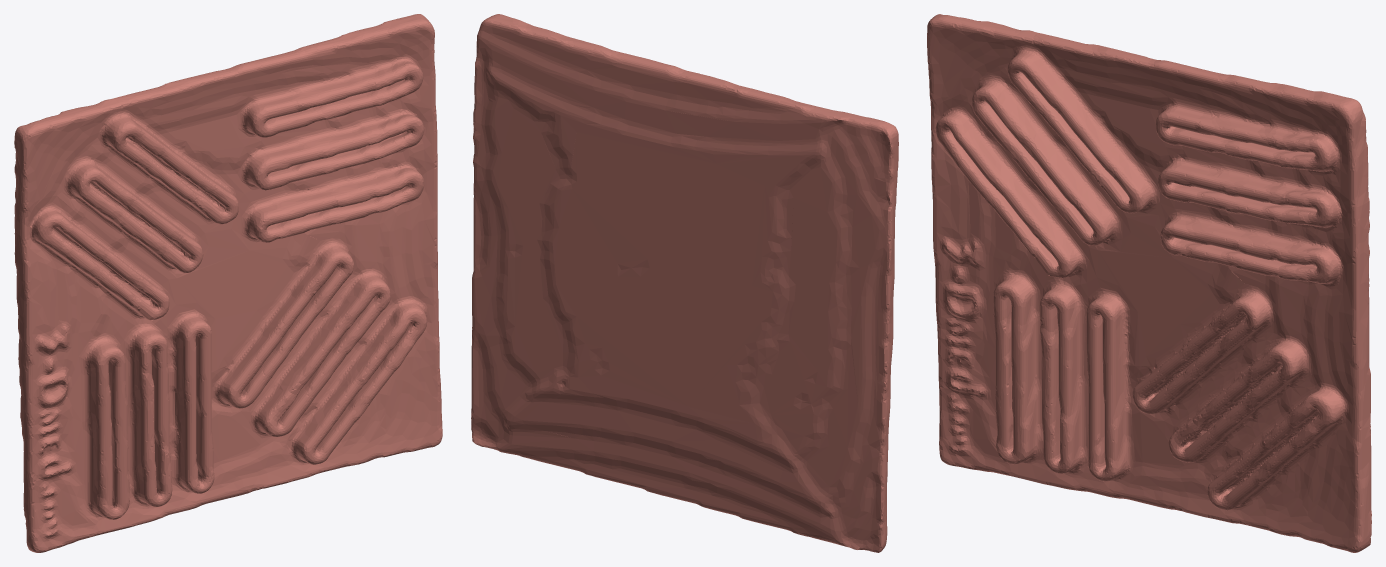
Rendered from phantom.OBJ.
3 views of the same model, side by side, from view 1: azimuth 30°, elevation 25°; view 2: azimuth 150°, elevation 25°; view 3: azimuth 330°, elevation 25° (orthographic). The views are drawn at different scales.
Parts seen in each view (by area): view 1: phantom_Segment_1; view 2: phantom_Segment_1; view 3: phantom_Segment_1.
Boxes of the visible parts, x1,y1,x2,y2 form: phantom_Segment_1: (14, 14, 442, 552); phantom_Segment_1: (471, 14, 898, 552); phantom_Segment_1: (927, 14, 1371, 552).
Size of the model in its own units: 0.1542 by 0.1545 by 0.0135.
